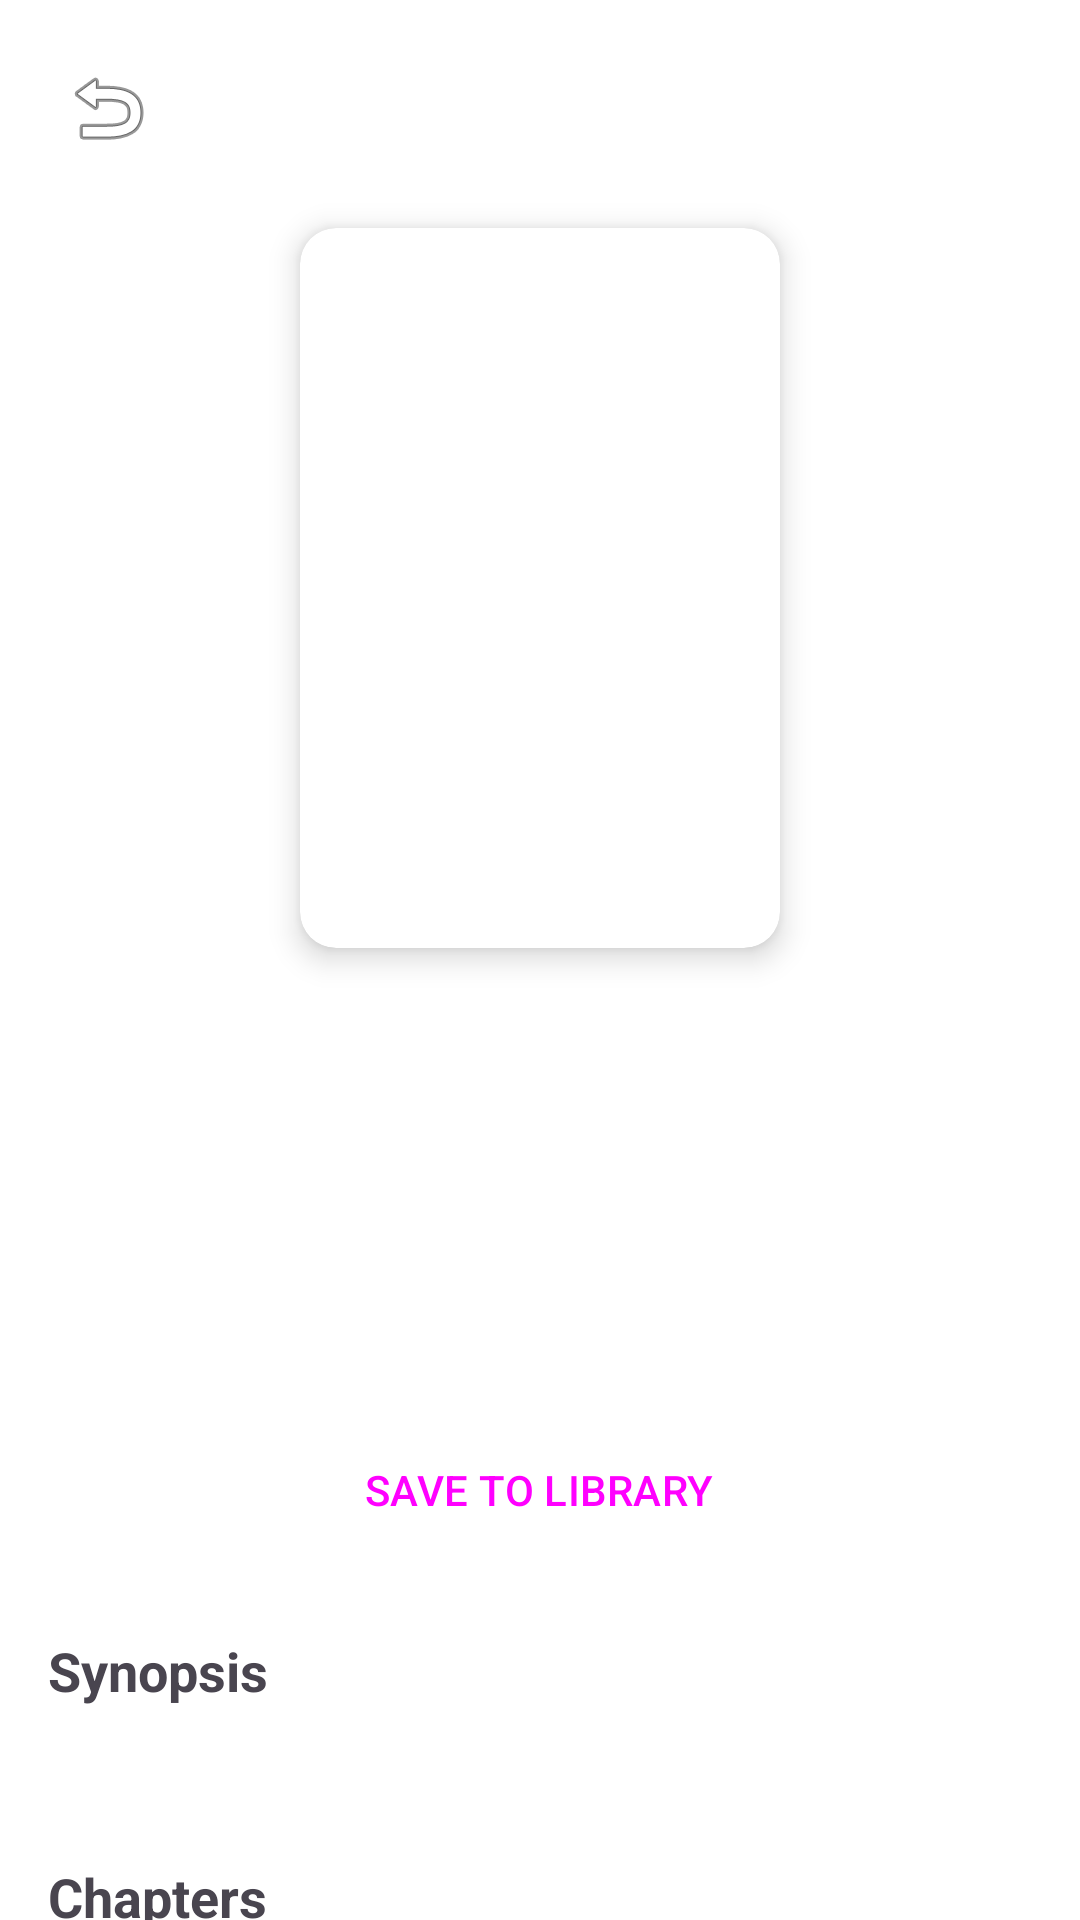

Icons on this 1080px×1920px Android screen, each with the point to tap as (x=x, y=y):
Back: (x=109, y=108)
